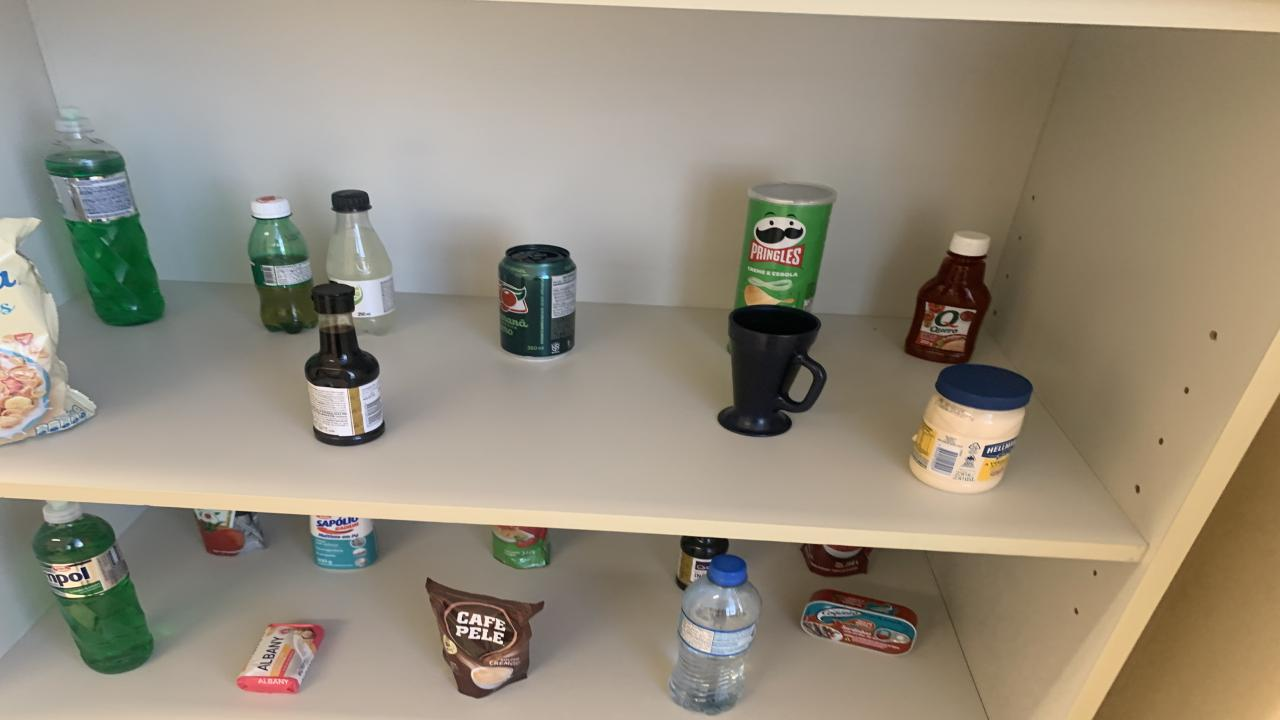Cleaner-Cleanup_Items: (310, 516, 378, 570)
Coffee-Pantry_Items: (425, 578, 545, 698)
Detergent-Cleanup_Items: (45, 109, 165, 326), (32, 501, 152, 673)
English_Sauce-Pantry_Items: (305, 281, 385, 446), (675, 536, 730, 589)
Flakes-Snacks: (0, 218, 95, 444)
Guarana-Drinks: (248, 197, 318, 334)
Guarana_Can-Drinks: (498, 244, 575, 358)
Ketchup-Pantry_Items: (905, 231, 990, 364)
Mayonnaise-Pantry_Items: (910, 364, 1032, 493)
Pringles-Snacks: (735, 182, 835, 311)
Soap-Cleanup_Items: (238, 624, 325, 694)
Soda-Drinks: (325, 189, 395, 334)
Tomato_Sauce-Pantry_Items: (195, 508, 265, 555), (492, 525, 550, 568), (800, 544, 870, 578)
Tuna_Can-Pantry_Items: (800, 589, 918, 654)
Water_Bottle-Drinks: (670, 555, 762, 714)
